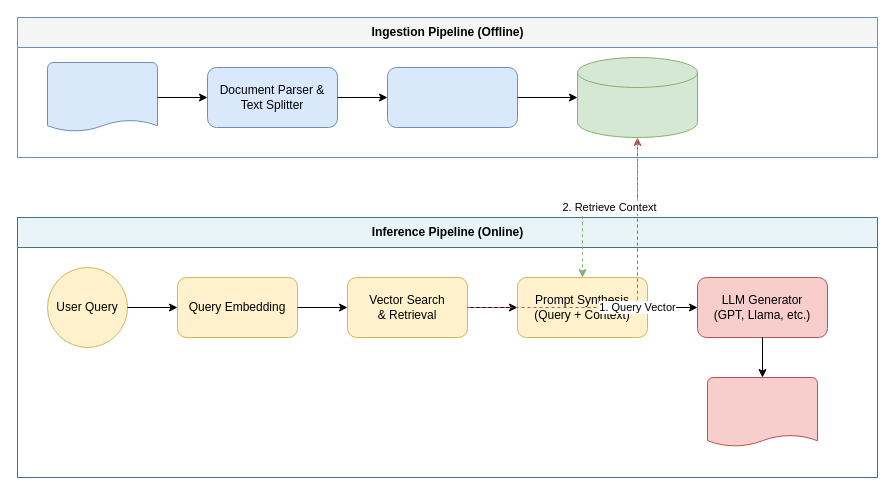
Image size: 895x495. Some labels were removed from this diagram. The centre of each missing label's shape, as x and y in pixels:
"Documents (PDF, TXT, etc.)" goes at pixel 102 97.
"Embedding Model (Vectorization)" goes at pixel 452 97.
"Generated Response" goes at pixel 762 412.
"Vector Database (Pinecone, Chroma, etc.)" goes at pixel 637 97.
